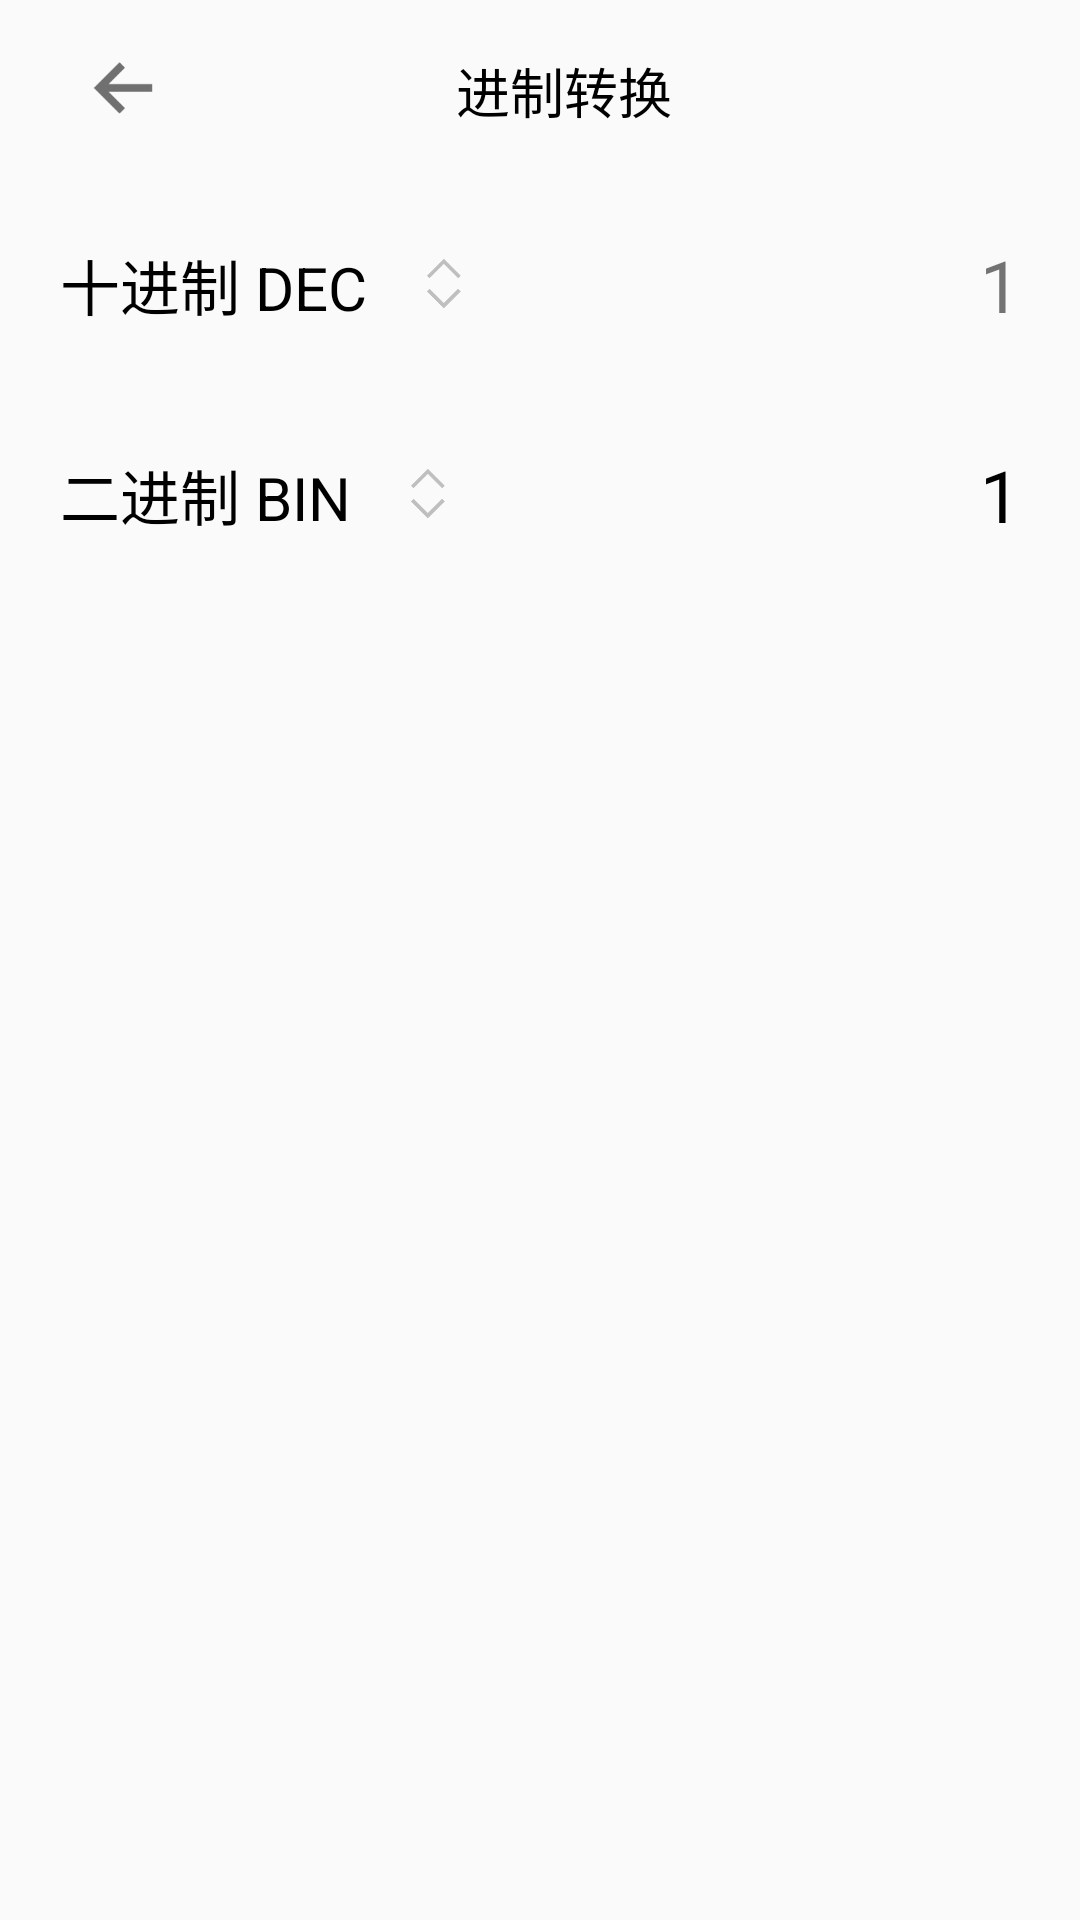

Point at icon controls on the screen. Image size 1080×1920, points as (x,y).
return: (123,88)
up down list: (444,283), (428,493)
